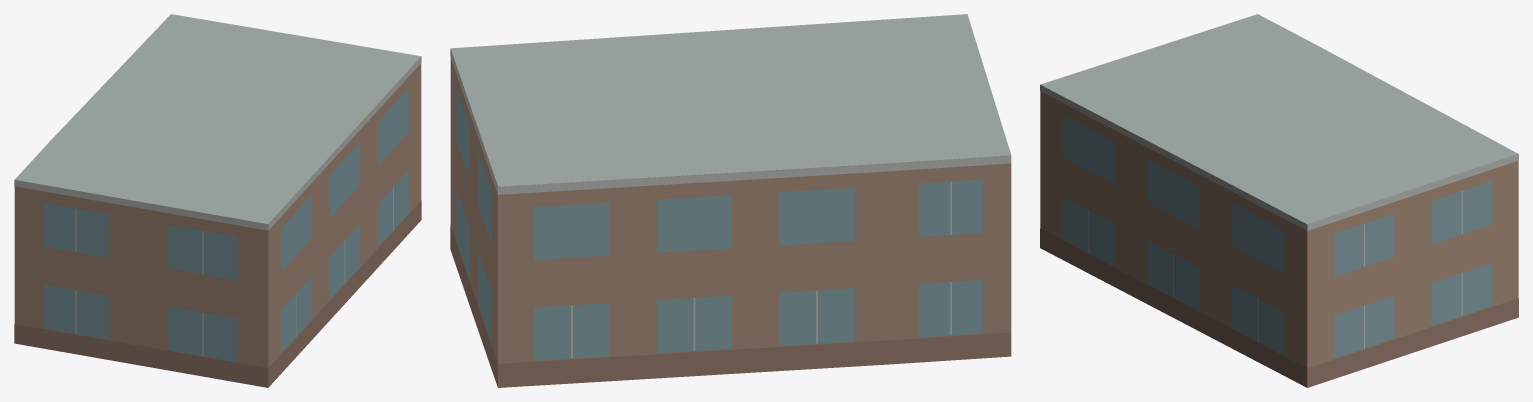
File: survey-upis-32606076.glb
3 renders of one model, left to right at view 1: azimuth 30°, elevation 25°; view 2: azimuth 150°, elevation 25°; view 3: azimuth 270°, elevation 25°, orthographic. The views are drawn at different scales.
Parts seen in each view (by area): view 1: survey-upis-32606076.tmp; view 2: survey-upis-32606076.tmp; view 3: survey-upis-32606076.tmp.
Part boxes in pixels (left/top/right/bottom): survey-upis-32606076.tmp: left=14, top=14, right=421, bottom=387; survey-upis-32606076.tmp: left=450, top=14, right=1011, bottom=387; survey-upis-32606076.tmp: left=1040, top=14, right=1518, bottom=387.
Size of the model in its own units: 16.85 by 6.1 by 16.2.
